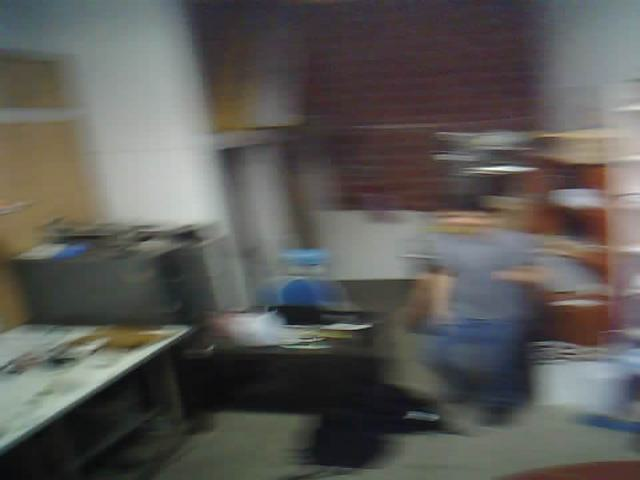person: (414, 167, 566, 439)
